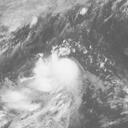cyclone: (37, 58, 85, 96)
